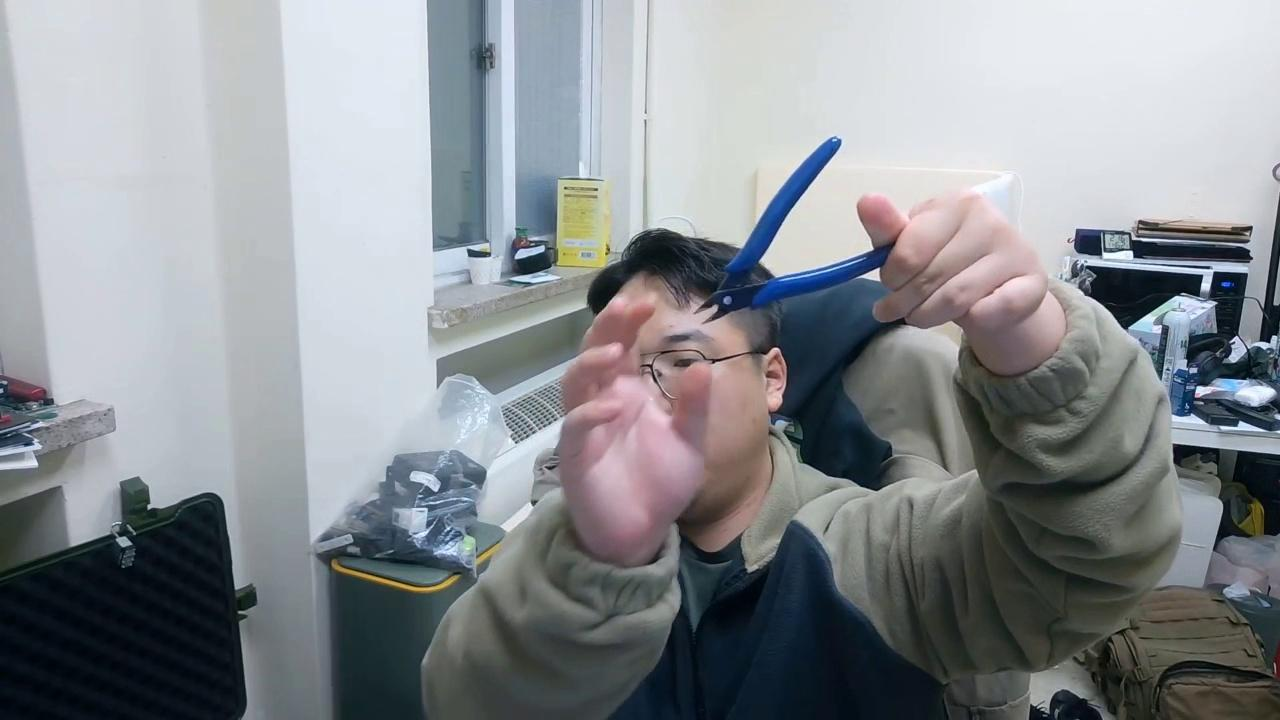blue_pliers: (694, 134, 899, 324)
